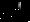person: (13, 4, 21, 18)
